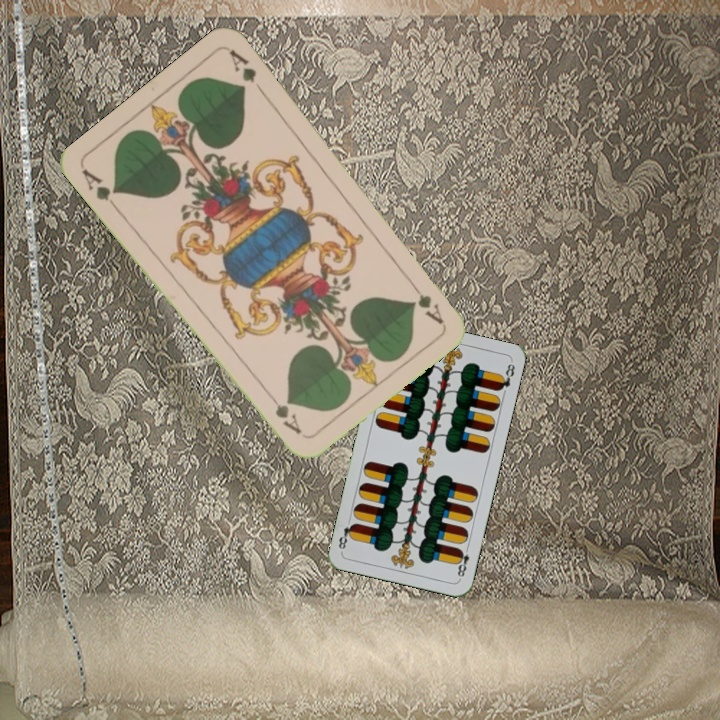E8: (453, 542, 472, 582)
GA: (78, 165, 122, 214), (405, 275, 446, 326)
